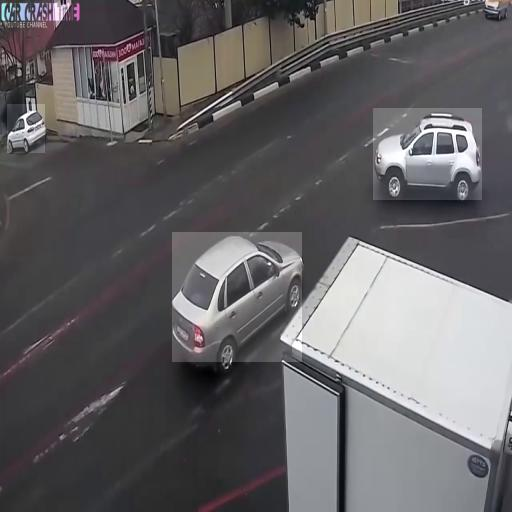小汽车: (172, 232, 302, 362), (373, 108, 482, 200), (7, 104, 45, 153)
